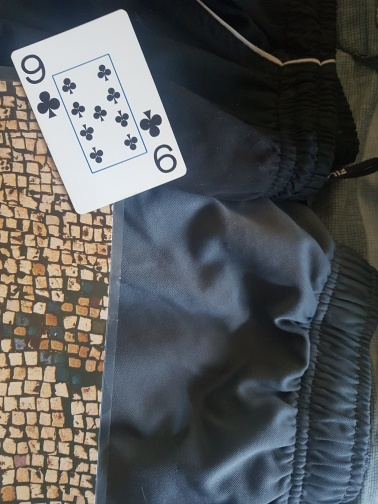nine: (10, 10, 187, 215)
